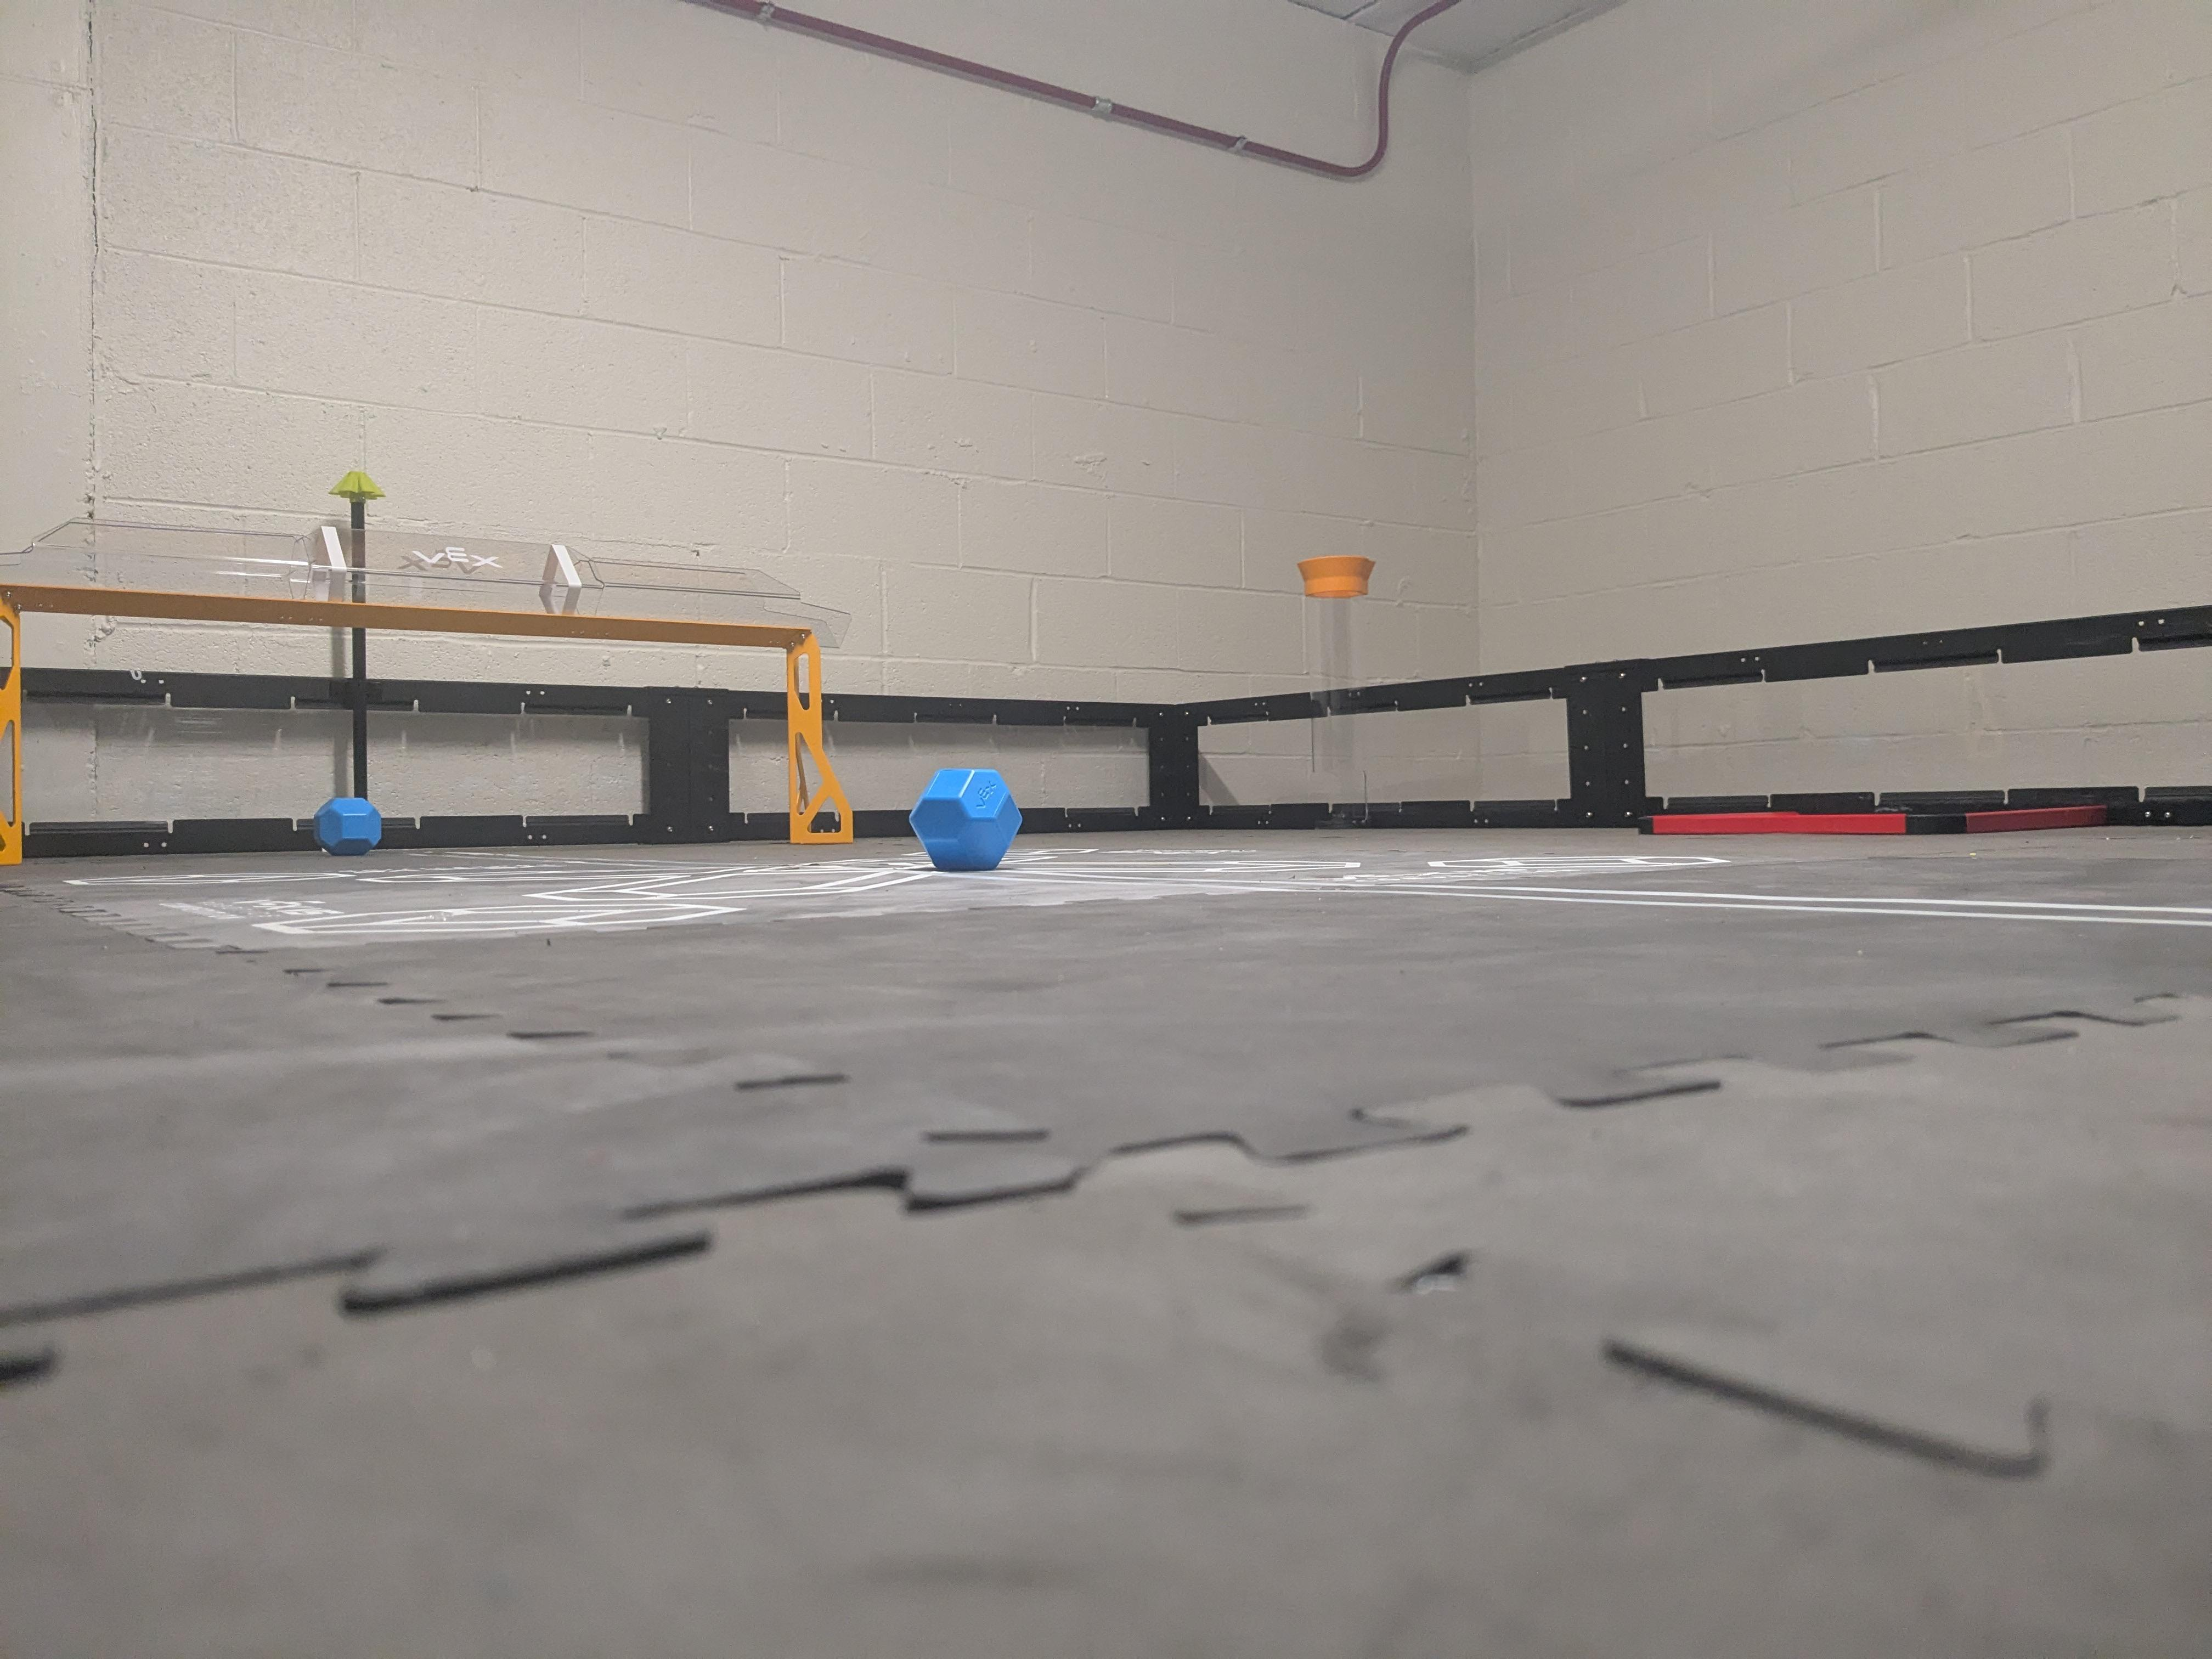Vex-Pieces-BLUE: (911, 770, 1019, 868), (307, 800, 383, 854)
